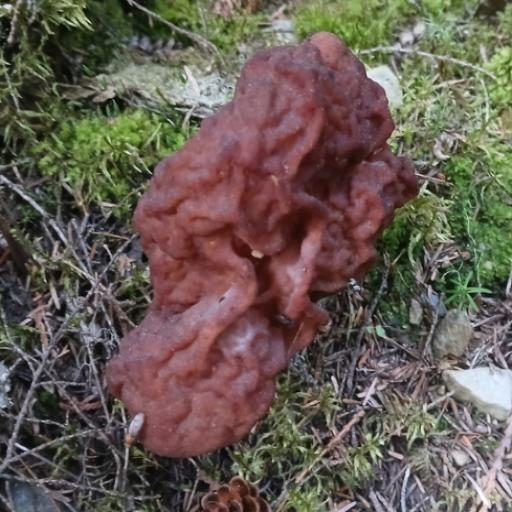mushroom: (109, 24, 417, 474)
